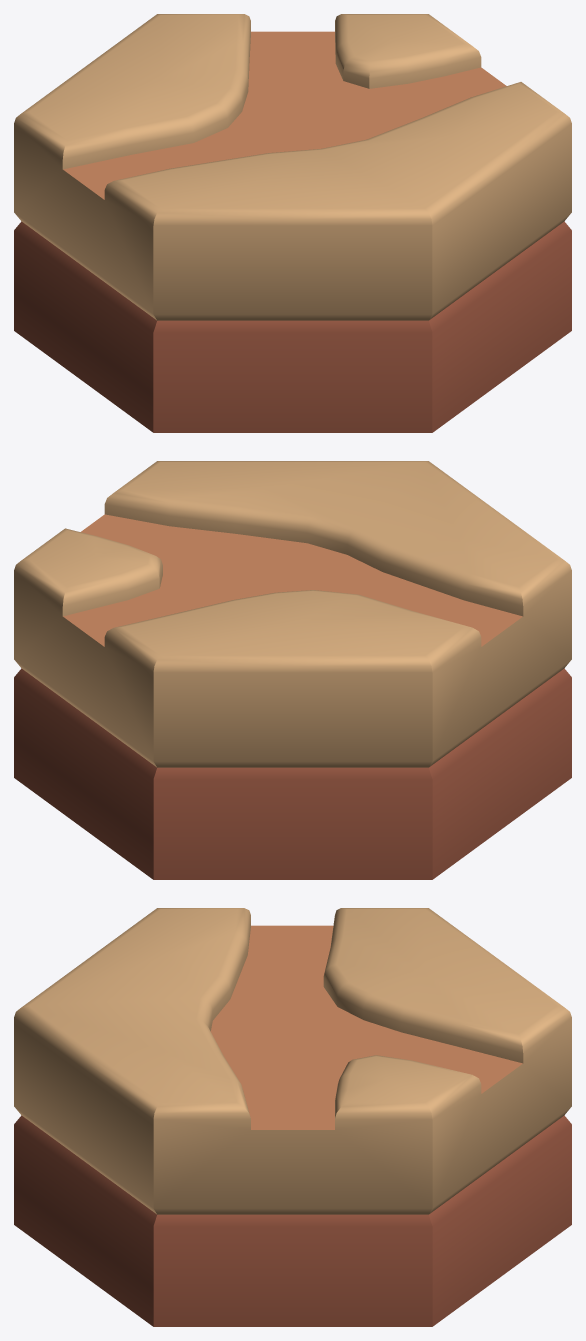
Rendered from hex_sand_roadF_detail.glb.
3 views of the same model, one above another, from view 1: azimuth 30°, elevation 25°; view 2: azimuth 150°, elevation 25°; view 3: azimuth 270°, elevation 25° (orthographic).
Parts seen in each view (by area): view 1: hex_sand_roadF_detail; view 2: hex_sand_roadF_detail; view 3: hex_sand_roadF_detail.
Part boxes in pixels (x1,y1,x2,y2): hex_sand_roadF_detail: [14, 14, 571, 432]; hex_sand_roadF_detail: [14, 461, 571, 879]; hex_sand_roadF_detail: [14, 908, 571, 1326].
Bounding box in the file's own units: 3.82 × 1.91 × 4.41.
